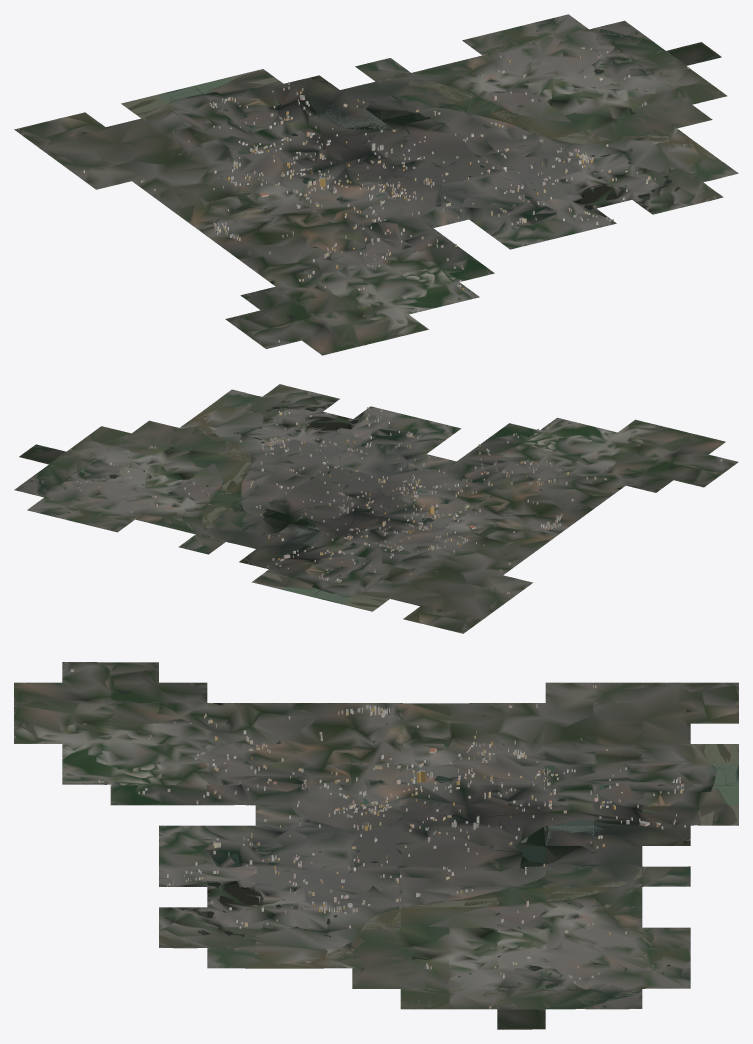
3 views of the same model, one above another, from view 1: azimuth 30°, elevation 25°; view 2: azimuth 150°, elevation 25°; view 3: azimuth 270°, elevation 25° (orthographic). The views are drawn at different scales.
Parts seen in each view (by area): view 1: ground, water, buildings; view 2: ground, buildings, water; view 3: ground, water, buildings.
Boxes of the visible parts, x1,y1,x2,y2 form: ground: (14, 14, 738, 355); water: (67, 28, 721, 347); buildings: (83, 47, 688, 342); ground: (14, 384, 738, 633); buildings: (70, 407, 722, 594); water: (30, 386, 731, 621); ground: (14, 662, 738, 1029); water: (69, 662, 738, 1029); buildings: (70, 669, 685, 1008).
Size of the model in its own units: 25216 by 342 by 21029.
